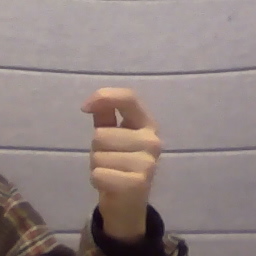T: (78, 83, 164, 202)
